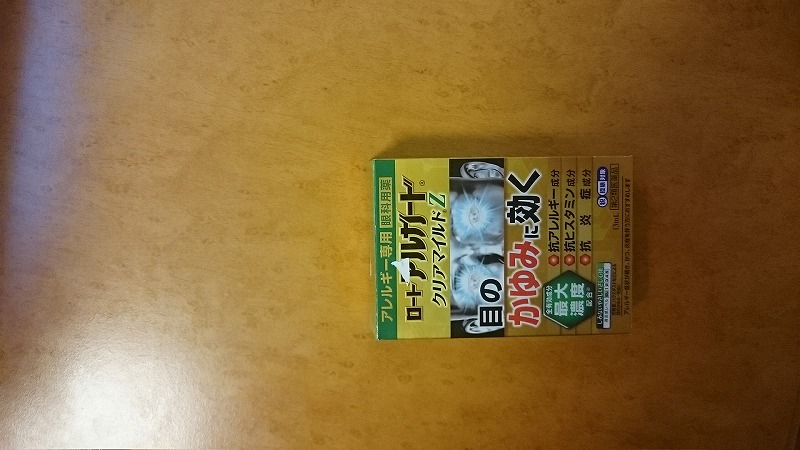C: (364, 151, 642, 348)
